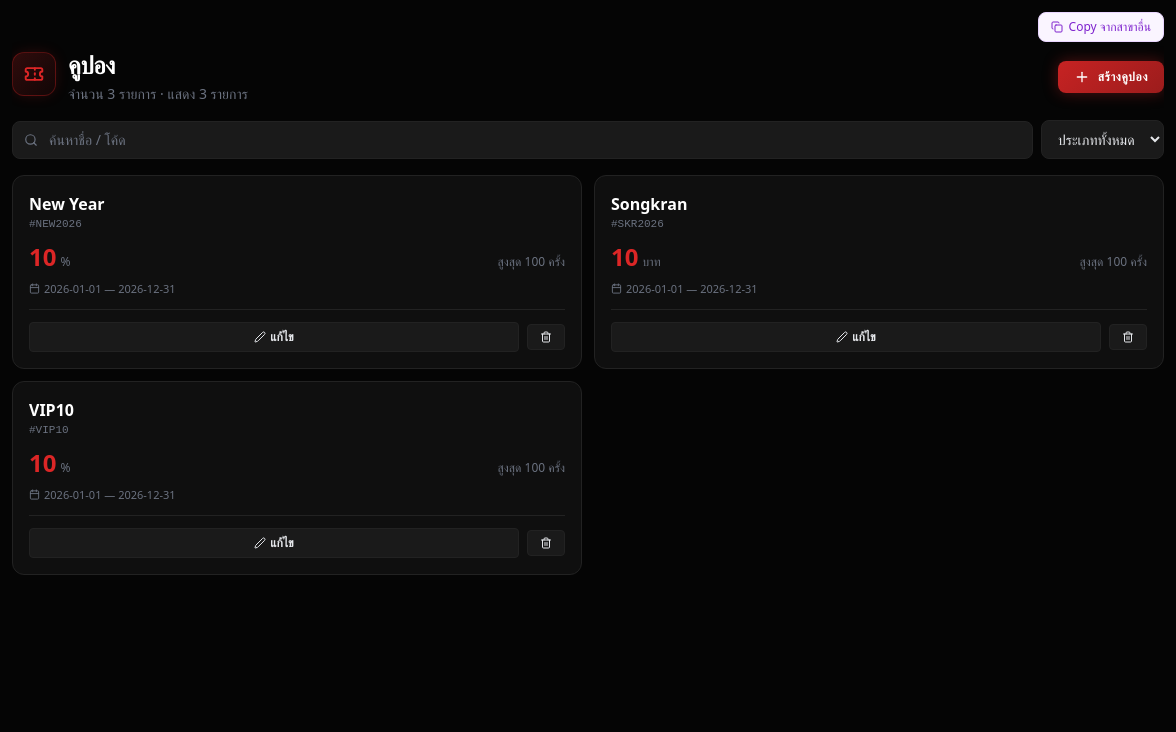
it: CouponTab — search + filter › CF3 filter by discount_type=percent
Select "% ส่วนลด" in the dropdown at (1102, 140), box [1041,120,1164,159]
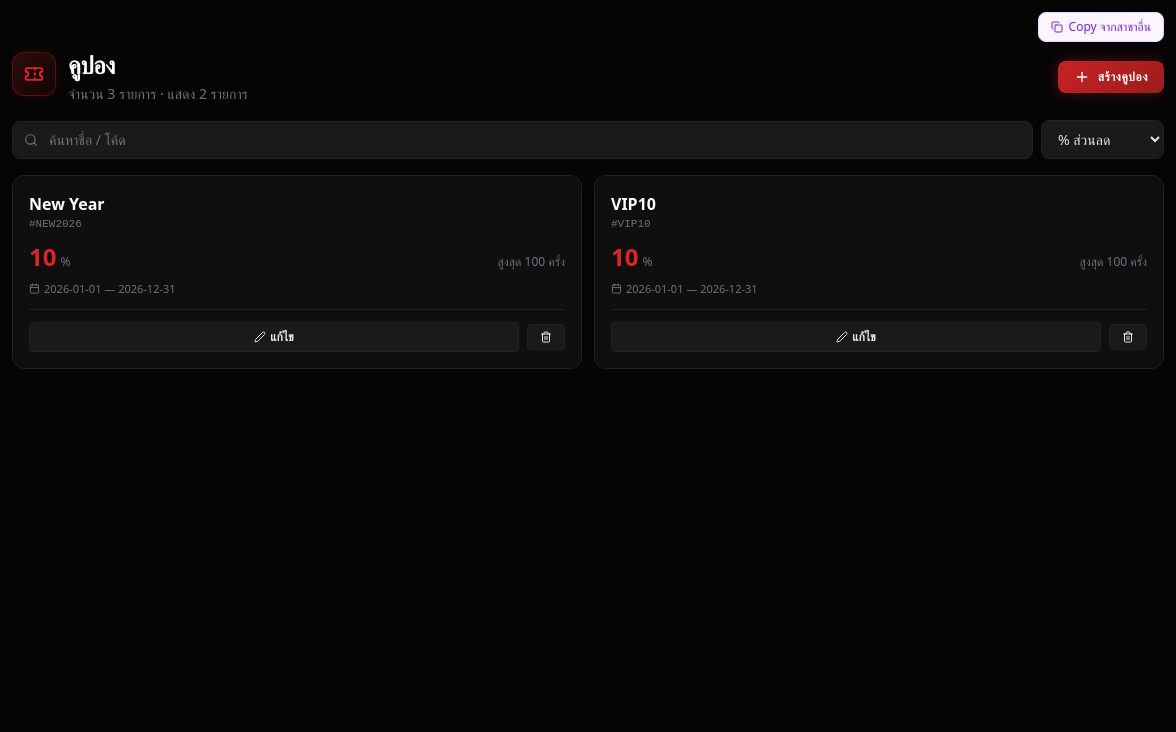
Expected: the heading "New Year" is shown, [29,193,105,215]
Result: the heading "Songkran" is gone
